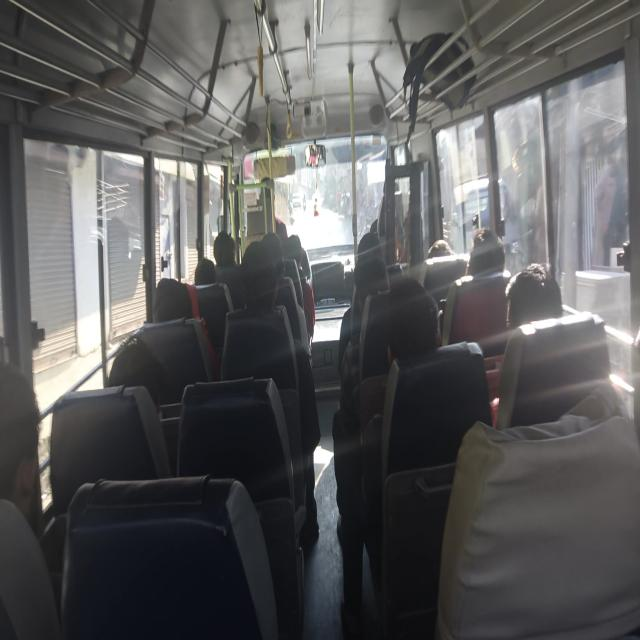person: (0, 359, 60, 536), (380, 279, 452, 360), (106, 322, 174, 399), (505, 256, 567, 332), (152, 271, 206, 333), (249, 160, 289, 217), (470, 227, 509, 280), (242, 238, 272, 300), (352, 247, 386, 291), (259, 232, 289, 276), (193, 253, 219, 292), (378, 167, 404, 205), (288, 226, 310, 270), (354, 226, 384, 254), (215, 226, 237, 260), (425, 237, 454, 261)
